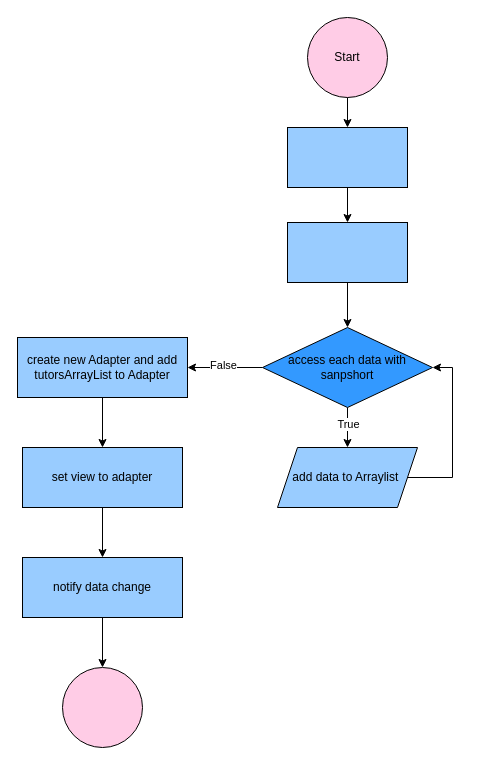
Some shapes in this 478 by 765 pixel diagram are drawn without their labels. The centre of each missing label's shape, as x and y in pixels:
"clear tutorsArraylist if exist" belongs at pixel 347 252.
"end" belongs at pixel 102 707.
"get data from table tutors" belongs at pixel 347 157.
